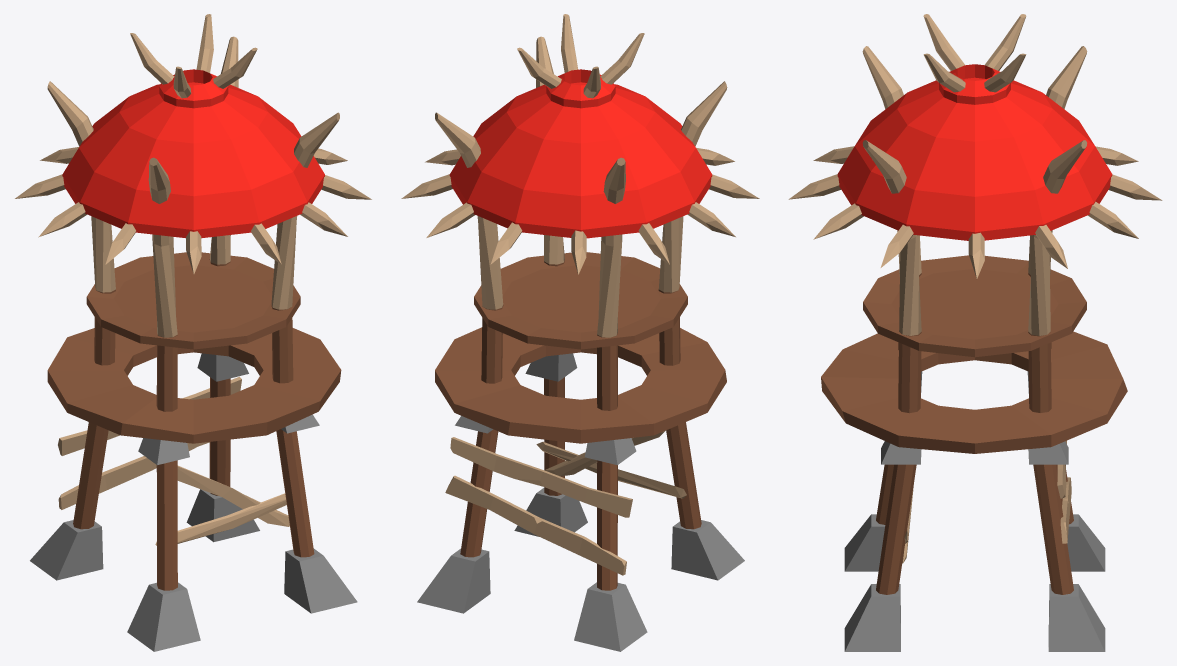
File: Torre.fbx
3 views of the same model, side by side, from view 1: azimuth 30°, elevation 25°; view 2: azimuth 150°, elevation 25°; view 3: azimuth 270°, elevation 25° (orthographic). The views are drawn at different scales.
Parts seen in each view (by area): view 1: Cube.015, Cylinder.003, Cube.016, Cube.017, Cube.018, Cube.019, Cylinder.004, Cylinder.012, Cylinder.005, Cylinder.011, Cylinder.013, Cylinder.014 (+1 smaller); view 2: Cube.015, Cylinder.003, Cube.016, Cube.017, Cube.018, Cube.019, Cylinder.008, Cylinder.004, Cylinder.009, Cylinder.015, Cylinder.005, Cylinder.006 (+1 smaller); view 3: Cube.015, Cylinder.003, Cube.016, Cube.017, Cylinder.008, Cylinder.012, Cylinder.007, Cylinder.013, Cylinder.009, Cylinder.010, Cylinder.011.
Part boxes in pixels (<box>): Cube.015: <box>30,69,357,651</box>; Cylinder.003: <box>47,14,339,590</box>; Cube.016: <box>47,328,341,443</box>; Cube.017: <box>58,376,241,509</box>; Cube.018: <box>155,493,286,545</box>; Cube.019: <box>177,465,289,526</box>; Cylinder.004: <box>38,202,86,237</box>; Cylinder.012: <box>300,202,347,236</box>; Cylinder.005: <box>15,174,65,198</box>; Cylinder.011: <box>321,175,371,199</box>; Cylinder.013: <box>251,223,281,264</box>; Cylinder.014: <box>186,231,201,274</box>; Cube.015: <box>417,69,744,651</box>; Cylinder.003: <box>435,14,727,590</box>; Cube.016: <box>435,327,726,443</box>; Cube.017: <box>445,437,632,575</box>; Cube.018: <box>536,441,686,498</box>; Cube.019: <box>545,430,665,476</box>; Cylinder.008: <box>426,202,474,237</box>; Cylinder.004: <box>687,202,735,236</box>; Cylinder.009: <box>401,174,452,198</box>; Cylinder.015: <box>709,174,759,198</box>; Cylinder.005: <box>638,223,669,264</box>; Cylinder.006: <box>571,230,586,274</box>; Cube.015: <box>837,64,1112,651</box>; Cylinder.003: <box>862,14,1087,594</box>; Cube.016: <box>821,331,1127,453</box>; Cube.017: <box>1057,440,1071,543</box>; Cylinder.008: <box>1088,201,1138,238</box>; Cylinder.012: <box>813,203,863,239</box>; Cylinder.007: <box>1108,174,1162,200</box>; Cylinder.013: <box>788,174,840,199</box>; Cylinder.009: <box>1035,225,1067,268</box>; Cylinder.010: <box>968,232,984,278</box>; Cylinder.011: <box>880,224,913,267</box>.
Bounding box in the file's own units: 2027 × 3368 × 2022.
